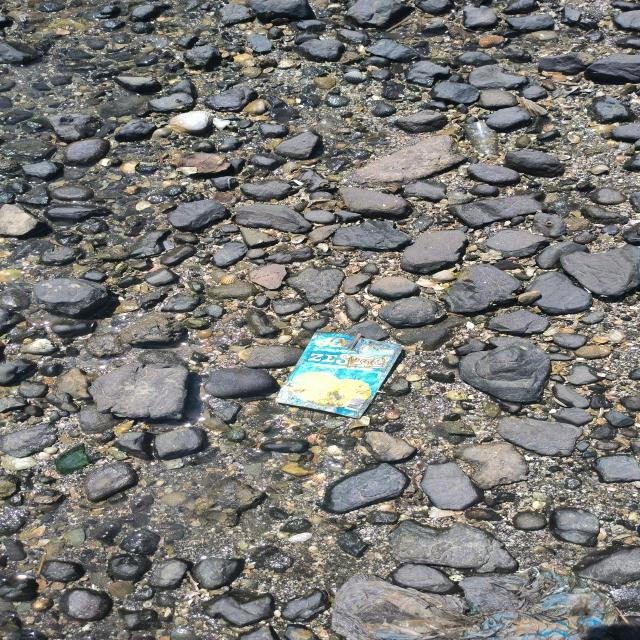plastic_waste: (279, 331, 407, 418)
